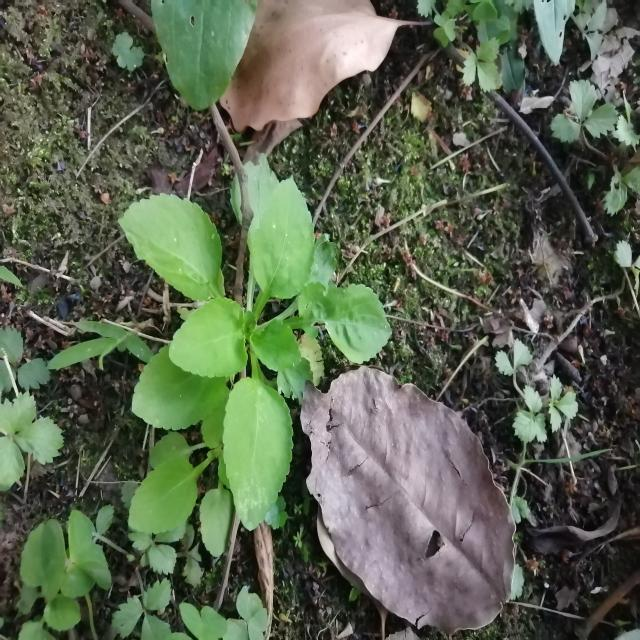Viola: (130, 189, 376, 517)
